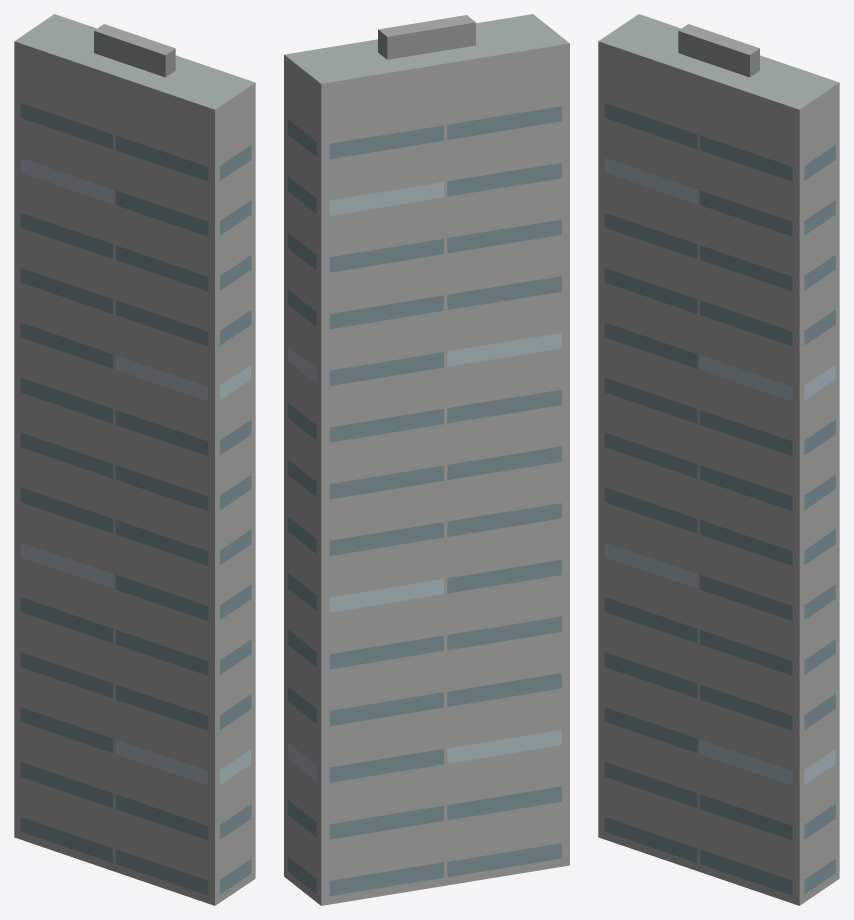
File: fallback-jamsil-ricenz-207.glb
3 renders of one model, left to right at view 1: azimuth 90°, elevation 25°; view 2: azimuth 150°, elevation 25°; view 3: azimuth 270°, elevation 25°, orthographic. The views are drawn at different scales.
Visible parts, largest first — view 1: fallback-jamsil-ricenz-207; view 2: fallback-jamsil-ricenz-207; view 3: fallback-jamsil-ricenz-207.
Boxes of the visible parts, x1,y1,x2,y2 form: fallback-jamsil-ricenz-207: (14,14,255,905); fallback-jamsil-ricenz-207: (284,14,569,905); fallback-jamsil-ricenz-207: (598,14,839,905).
Size of the model in its own units: 22.09 by 88 by 23.51.
